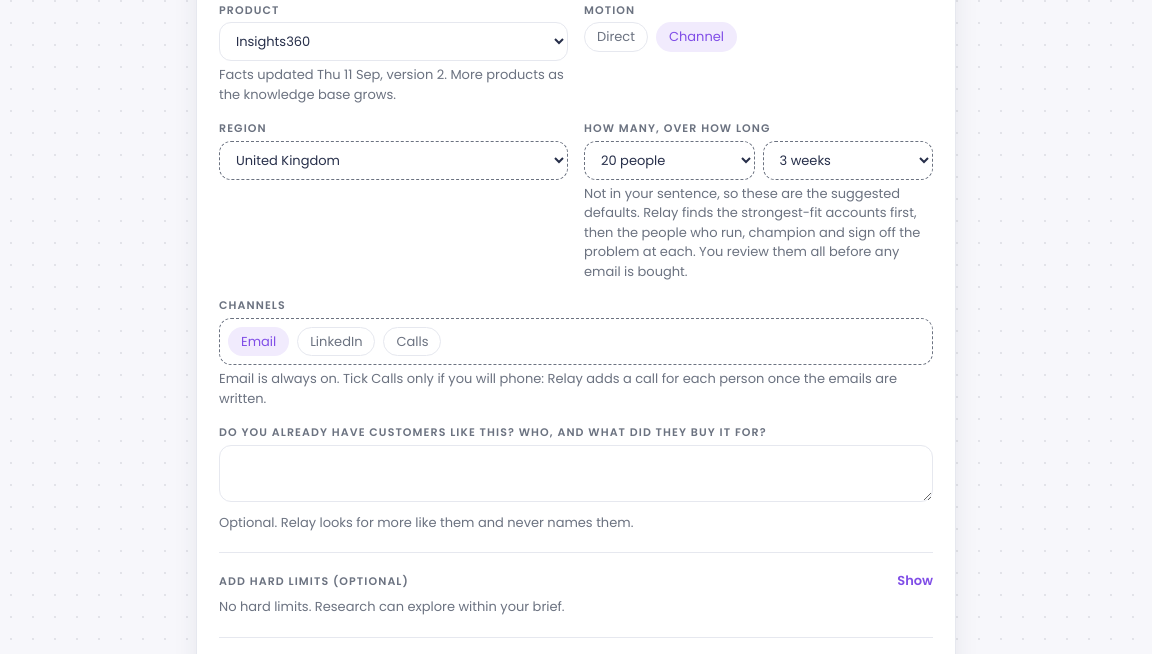
Test case: Hard limits › take a term off again
(page scrolled)
Step 1. Click the button "Add hard limits (optional) Show" → (314, 581), box top-left (219, 569), bottom-right (933, 593)
(page scrolled)
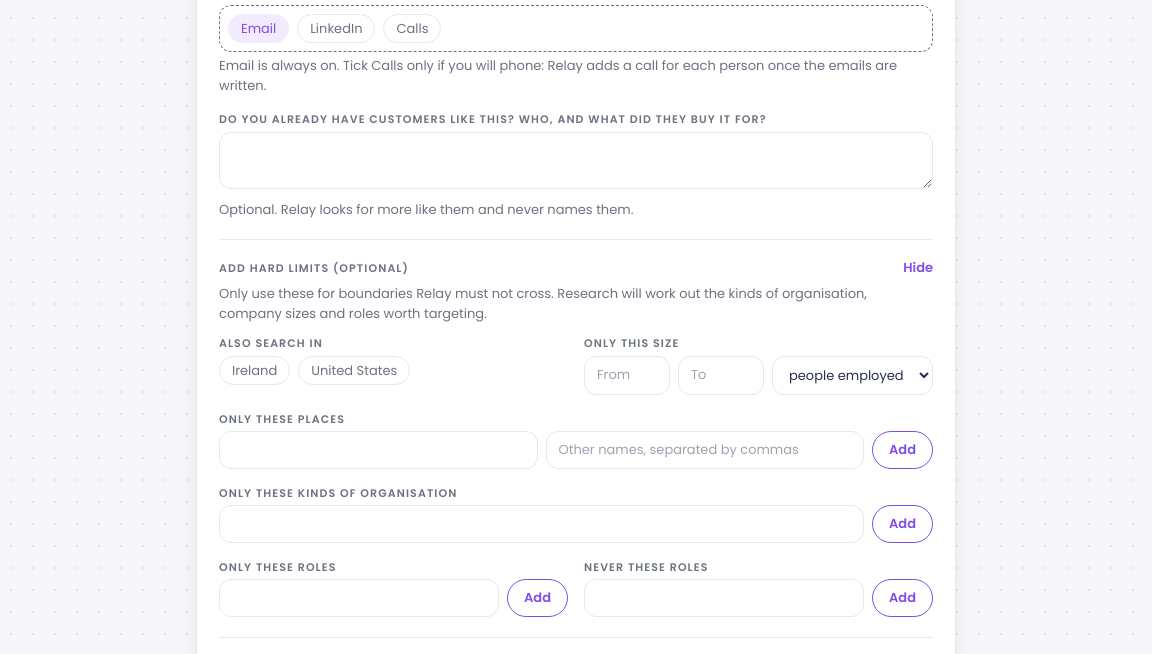
Step 2. Type "veterinary practice" into the field named "Only these kinds of organisation" → (542, 524), box top-left (219, 505), bottom-right (864, 543)
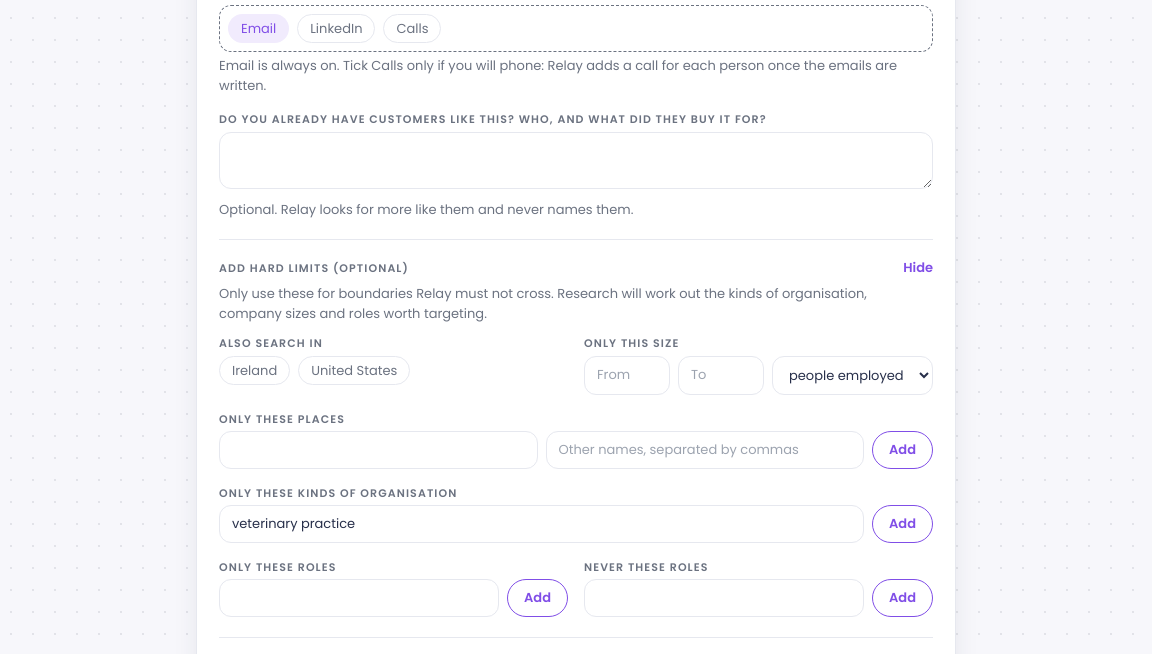
Step 3. Click the 2nd button "Add" → (903, 524), box top-left (872, 505), bottom-right (933, 543)
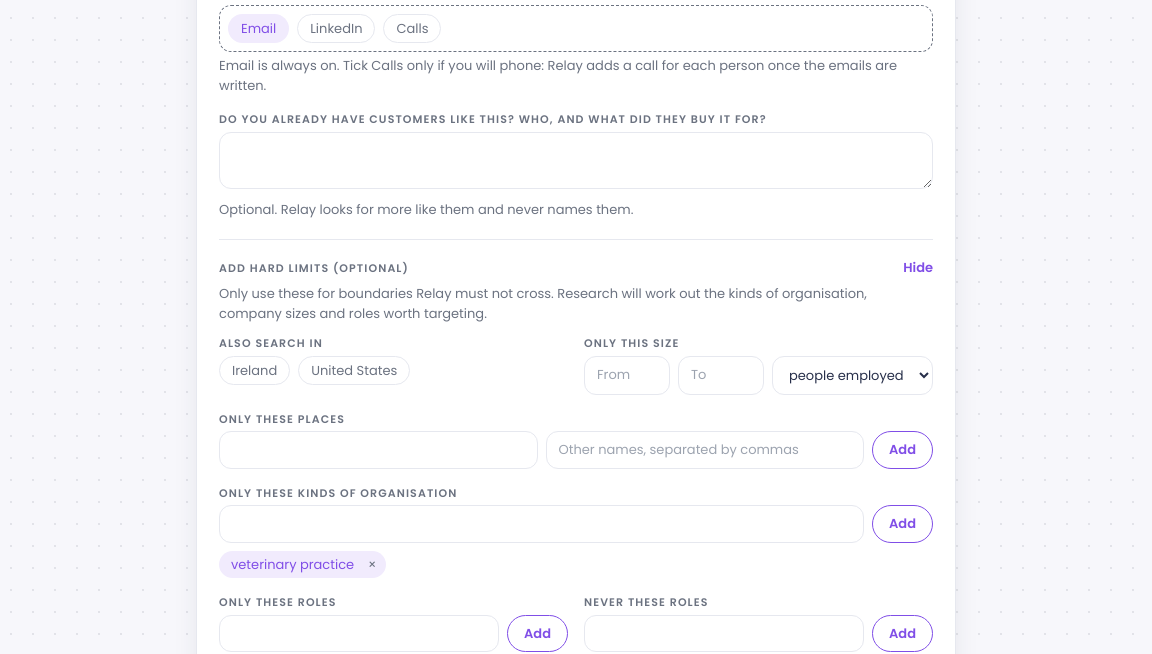
expect the number of list items with test id "term-chip" is 1: met, box top-left (219, 551), bottom-right (386, 578)
Step 4. Click the button "×" → (372, 564), box top-left (360, 552), bottom-right (384, 576)
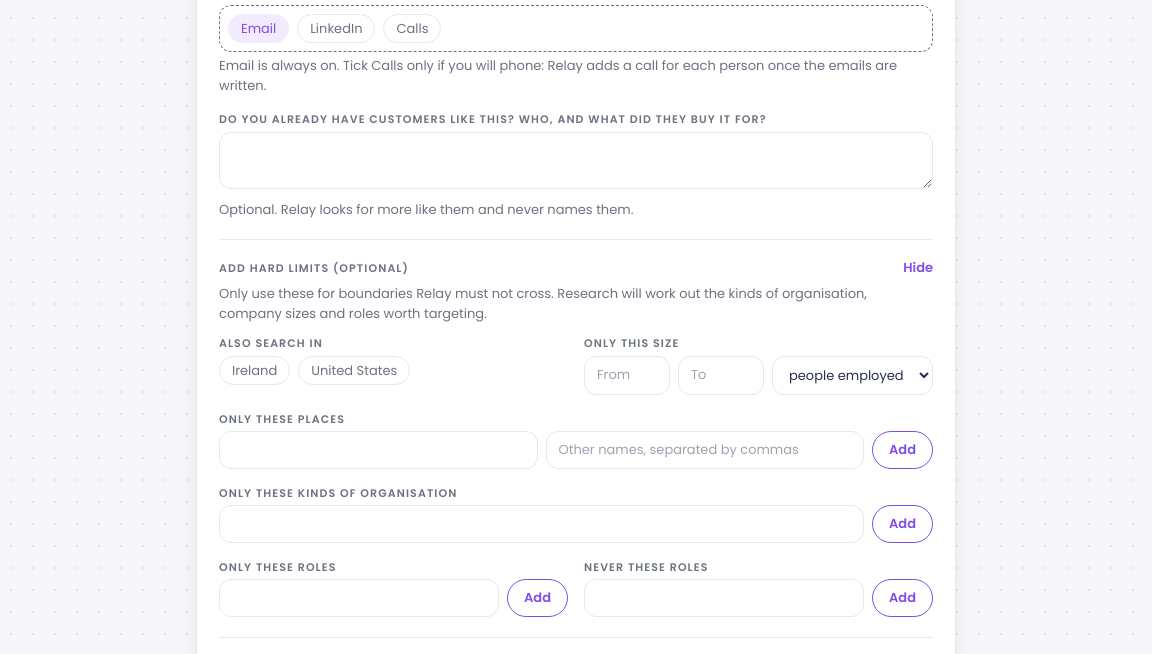
expect no list items with test id "term-chip" are shown: met
